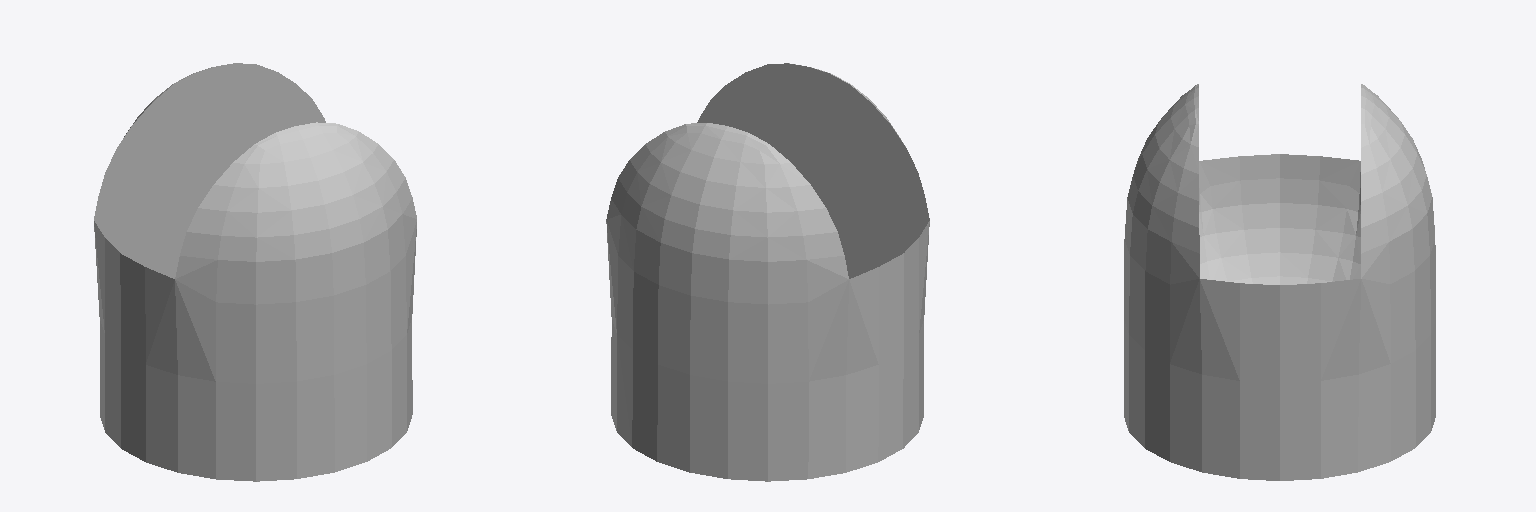
Rendered from Tr-Grue-LeverBase-Z_01.obj.
The picture shows the model from 3 angles: view 1: azimuth 30°, elevation 25°; view 2: azimuth 150°, elevation 25°; view 3: azimuth 270°, elevation 25°; orthographic projection.
Visible parts, largest first — view 1: Tr-Grue-LeverBase-Z_01_BaseLevier.007; view 2: Tr-Grue-LeverBase-Z_01_BaseLevier.007; view 3: Tr-Grue-LeverBase-Z_01_BaseLevier.007.
Boxes of the visible parts, x1=… form: Tr-Grue-LeverBase-Z_01_BaseLevier.007: x1=94, y1=63, x2=416, y2=481; Tr-Grue-LeverBase-Z_01_BaseLevier.007: x1=606, y1=63, x2=929, y2=481; Tr-Grue-LeverBase-Z_01_BaseLevier.007: x1=1124, y1=84, x2=1435, y2=480.
Size of the model in its own units: 0.0726 by 0.0817 by 0.0725.